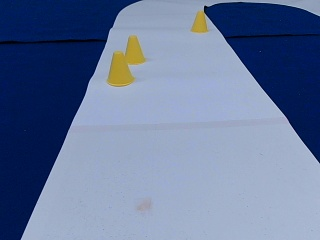cone: (107, 51, 134, 86), (123, 36, 145, 64), (191, 11, 207, 33)
